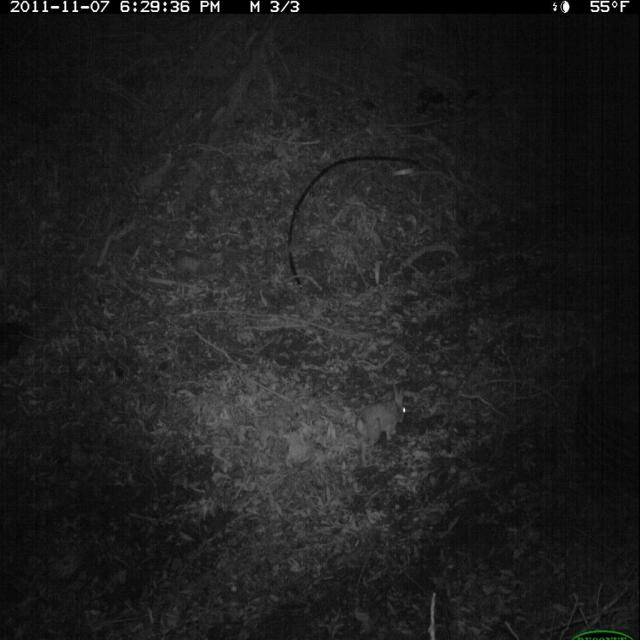rabbit: (353, 383, 411, 469)
